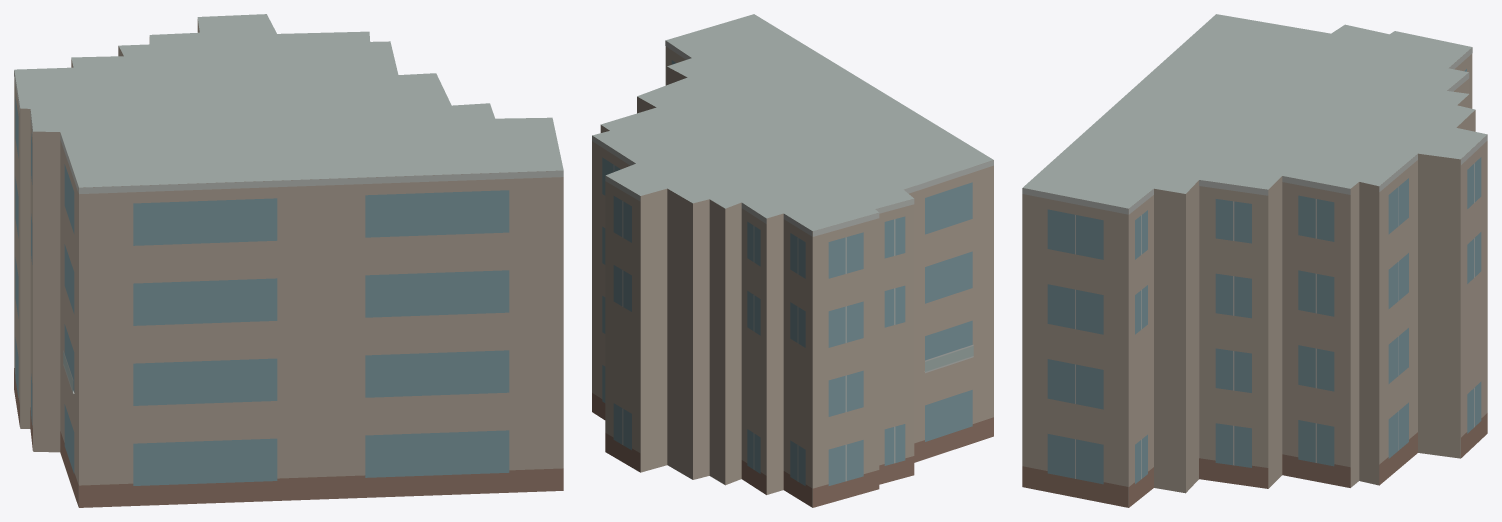
File: survey-upis-32970621.glb
The picture shows the model from 3 angles, left to right: view 1: azimuth 30°, elevation 25°; view 2: azimuth 150°, elevation 25°; view 3: azimuth 270°, elevation 25°; orthographic projection. The views are drawn at different scales.
Visible parts, largest first — view 1: survey-upis-32970621.tmp; view 2: survey-upis-32970621.tmp; view 3: survey-upis-32970621.tmp.
Boxes of the visible parts, <box> form: survey-upis-32970621.tmp: <box>14,14,563,507</box>; survey-upis-32970621.tmp: <box>592,14,993,507</box>; survey-upis-32970621.tmp: <box>1022,14,1487,507</box>.
Bounding box in the file's own units: 16.61 × 11.9 × 16.77.
